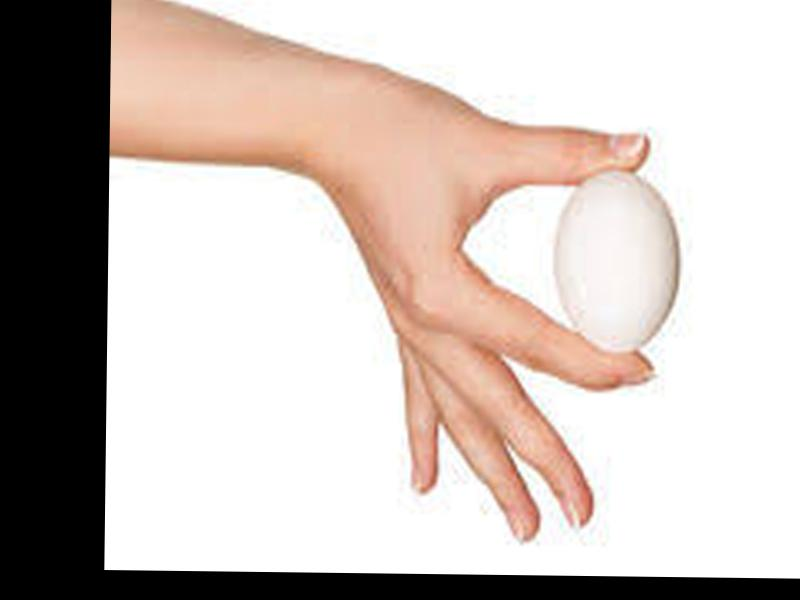Eggs: (552, 170, 684, 355)
